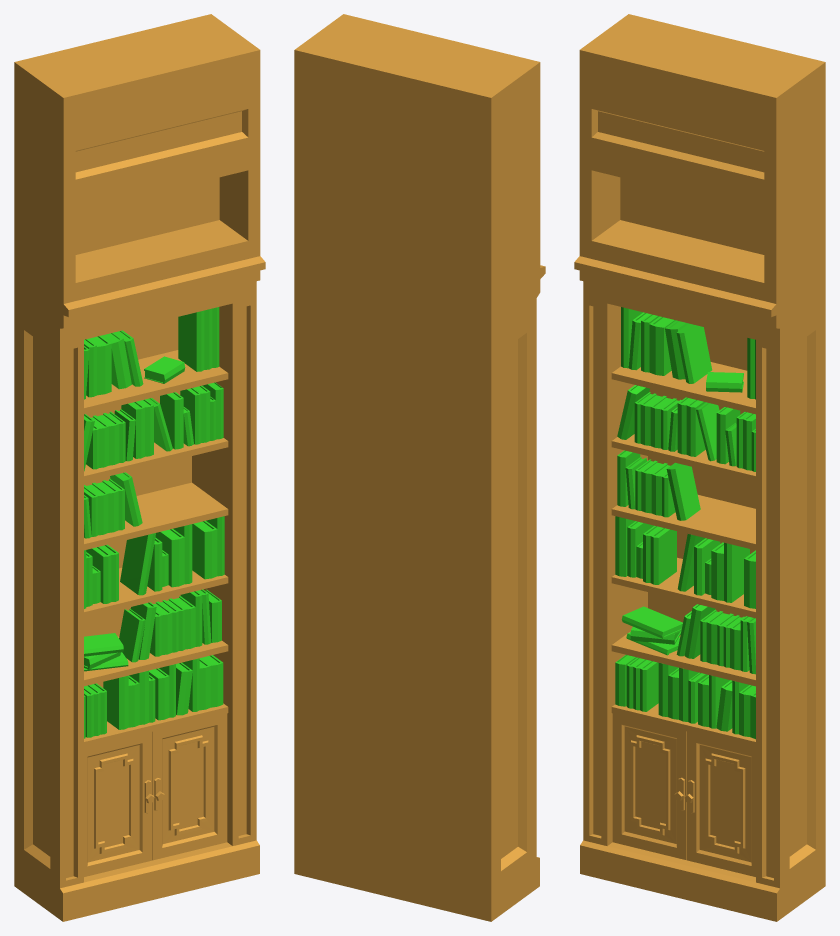
The model's file is Sm_Bookcase_Tall_Modular_Cabinet_Filled_1m_B.fbx.
3 renders of one model, left to right at view 1: azimuth 30°, elevation 25°; view 2: azimuth 150°, elevation 25°; view 3: azimuth 330°, elevation 25°, orthographic.
Parts seen in each view (by area): view 1: library-tall-modular-cabinet-filled-1m-b-base, library-tall-modular-cabinet-filled-1m-b-door-r, library-tall-modular-cabinet-filled-1m-b-door-l; view 2: library-tall-modular-cabinet-filled-1m-b-base; view 3: library-tall-modular-cabinet-filled-1m-b-base, library-tall-modular-cabinet-filled-1m-b-door-l, library-tall-modular-cabinet-filled-1m-b-door-r.
Part boxes in pixels (bbox=[...]): library-tall-modular-cabinet-filled-1m-b-base: bbox=[14, 14, 265, 921]; library-tall-modular-cabinet-filled-1m-b-door-r: bbox=[152, 713, 227, 860]; library-tall-modular-cabinet-filled-1m-b-door-l: bbox=[84, 731, 154, 876]; library-tall-modular-cabinet-filled-1m-b-base: bbox=[294, 14, 545, 921]; library-tall-modular-cabinet-filled-1m-b-base: bbox=[574, 14, 825, 921]; library-tall-modular-cabinet-filled-1m-b-door-l: bbox=[612, 713, 686, 860]; library-tall-modular-cabinet-filled-1m-b-door-r: bbox=[684, 731, 755, 876].
Size of the model in its own units: 1 by 4 by 0.4778.
